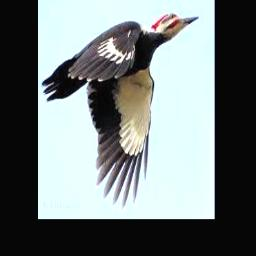Woodpecker: (41, 12, 199, 209)
